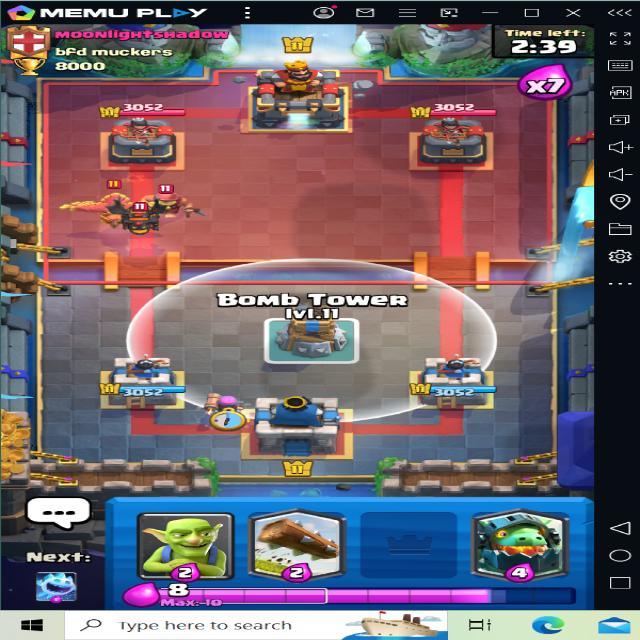fisherman: (128, 175, 216, 220)
lava-hound: (99, 192, 180, 234)
phoenix: (66, 178, 178, 228)
